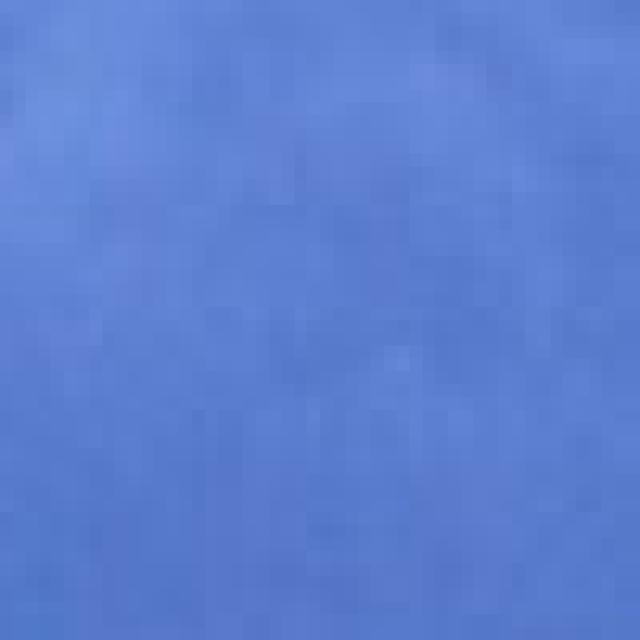no_fire: (4, 17, 640, 606)
